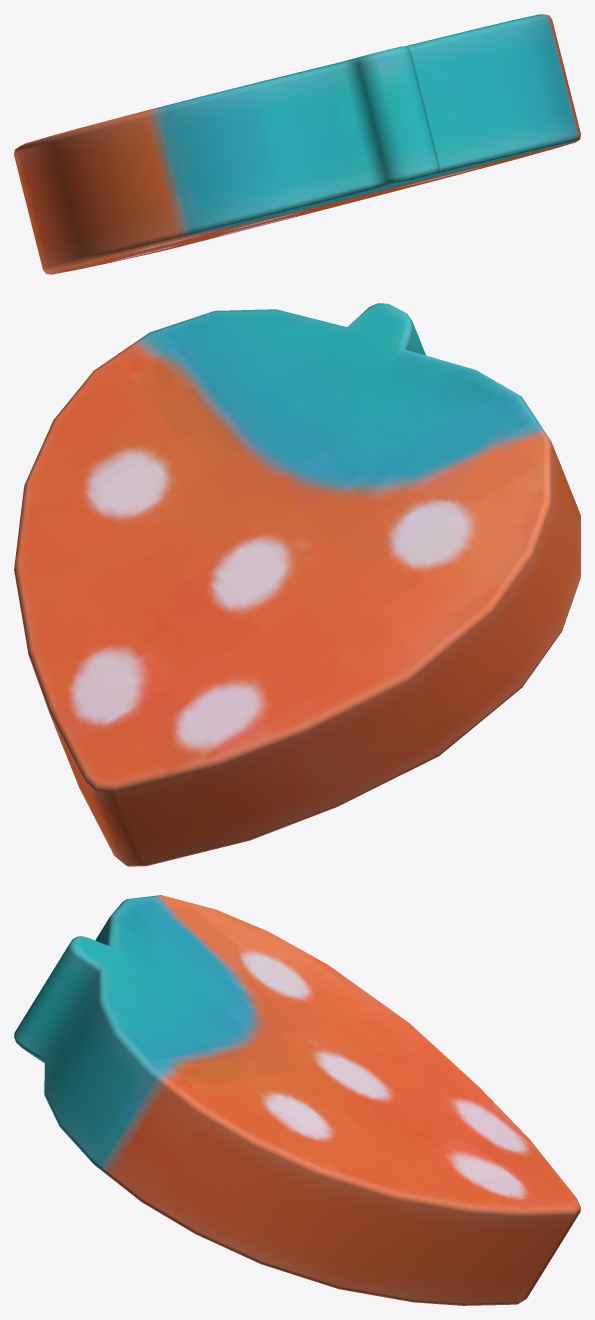
The model's file is ref_gtfruiteraser.glb.
3 views of the same model, one above another, from view 1: azimuth 30°, elevation 25°; view 2: azimuth 150°, elevation 25°; view 3: azimuth 270°, elevation 25° (orthographic). The views are drawn at different scales.
Parts seen in each view (by area): view 1: ref_gtfruiteraser_part0; view 2: ref_gtfruiteraser_part0; view 3: ref_gtfruiteraser_part0.
Part boxes in pixels (x1,y1,x2,y2): ref_gtfruiteraser_part0: (14,14,580,274); ref_gtfruiteraser_part0: (14,303,580,866); ref_gtfruiteraser_part0: (14,895,580,1305).
Size of the model in its own units: 0.908 by 0.6856 by 1.
Materials: 1 (1 with a texture image).
